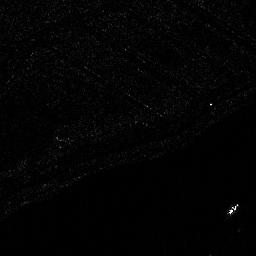ship: (227, 203, 239, 215)
